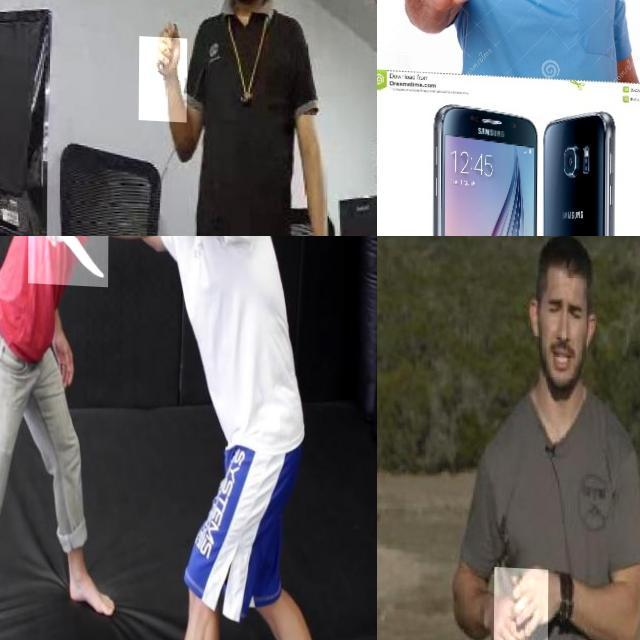-: (139, 33, 188, 119), (494, 564, 549, 640), (28, 236, 109, 285)
